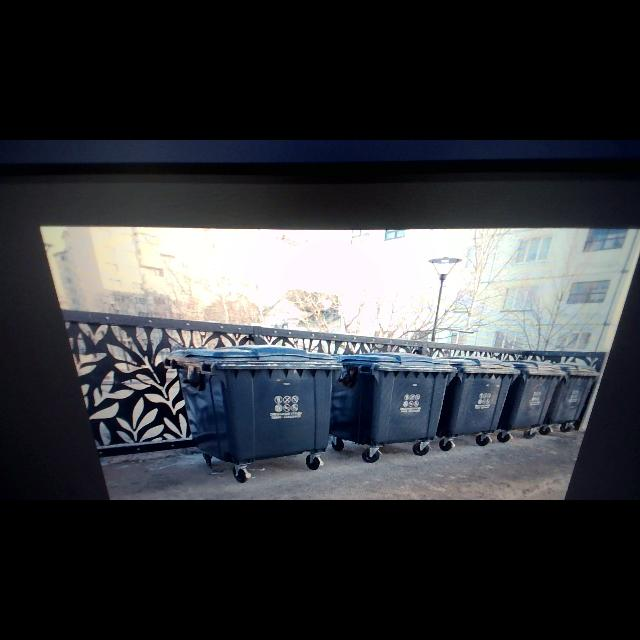Trash_Can_Closed: (164, 343, 342, 465), (330, 352, 457, 446), (436, 356, 520, 437), (498, 360, 567, 428), (544, 362, 599, 423)
